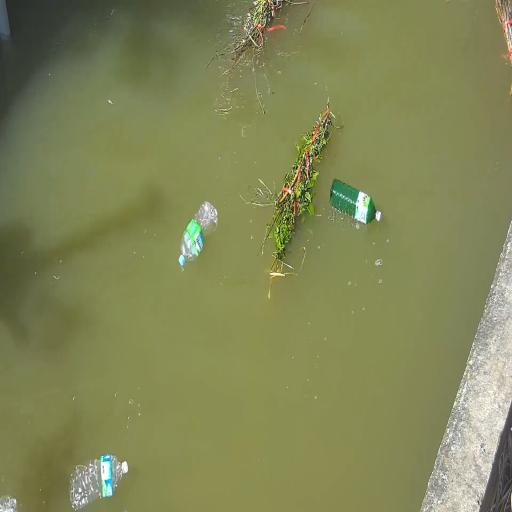plastic: (64, 448, 128, 508), (324, 176, 383, 234), (178, 192, 220, 270), (0, 480, 24, 512)
twig: (249, 95, 336, 265), (218, 0, 308, 68), (490, 0, 512, 88)
